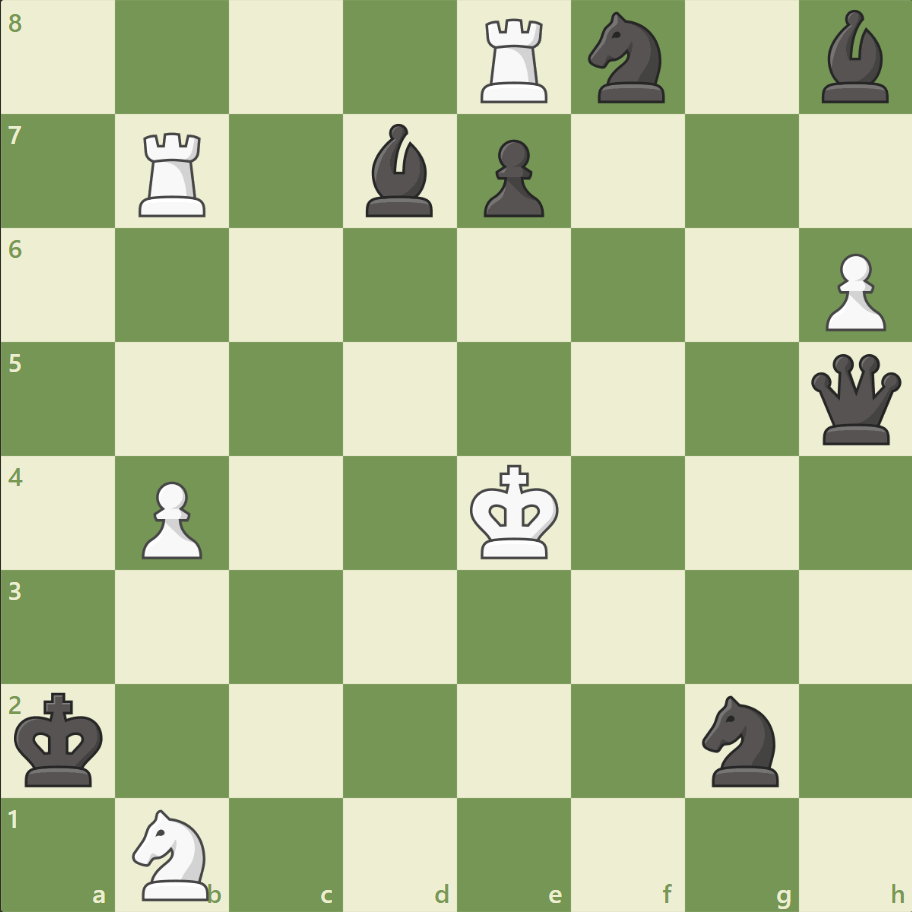K: (465, 458, 565, 566)
N: (124, 802, 222, 904)
P: (133, 473, 208, 564), (815, 246, 889, 337)
R: (473, 12, 556, 109), (133, 125, 215, 222)
b: (812, 6, 896, 109), (358, 120, 442, 222)
k: (11, 685, 111, 793)
n: (579, 7, 676, 110), (692, 688, 789, 791)
p: (474, 132, 549, 223)
q: (805, 349, 904, 449)
